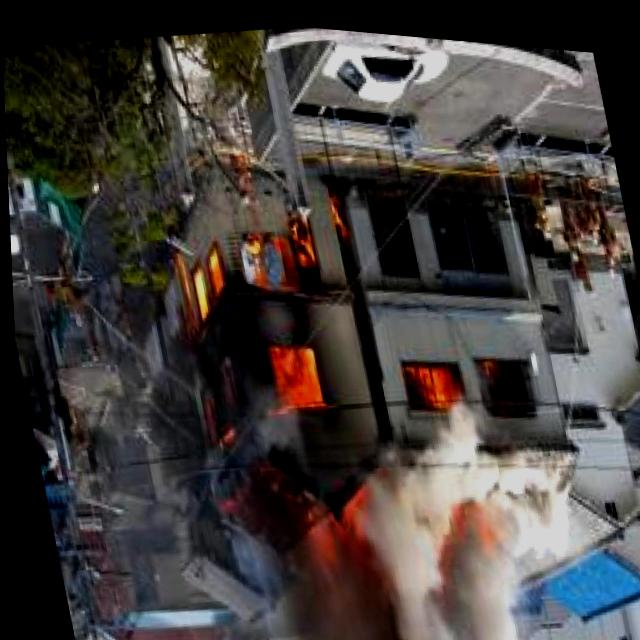helmet: (145, 130, 413, 598), (400, 344, 460, 408)
no_helmet: (385, 426, 584, 640), (248, 509, 430, 640)
